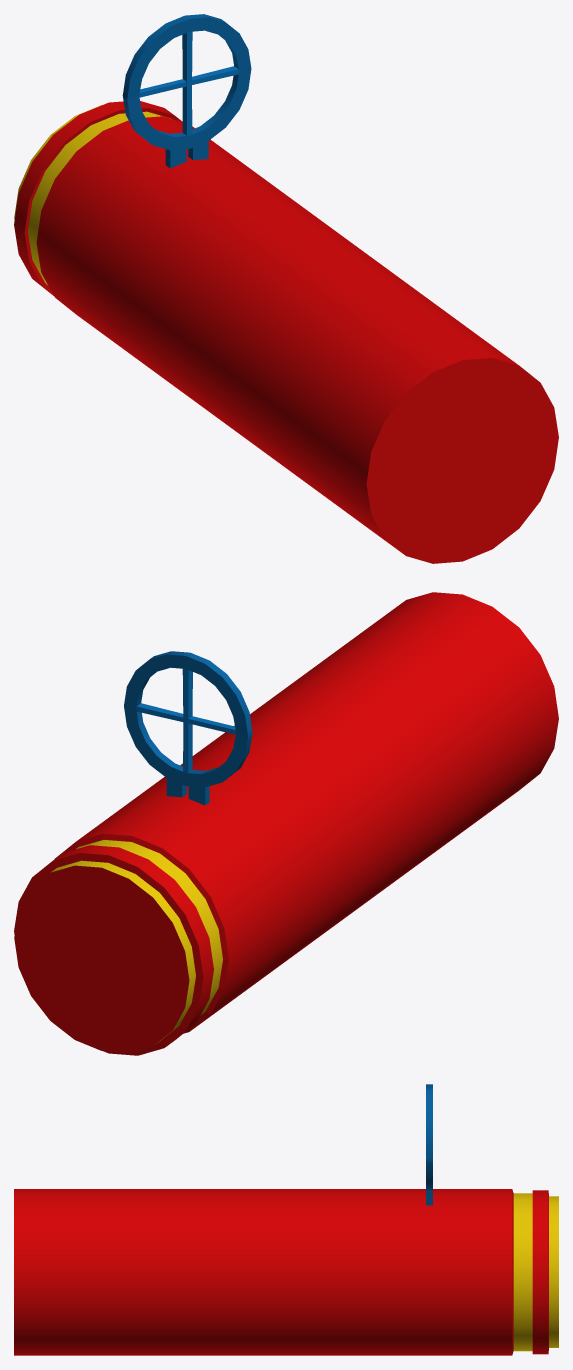
Rendered from gun.fbx.
3 views of the same model, one above another, from view 1: azimuth 30°, elevation 25°; view 2: azimuth 150°, elevation 25°; view 3: azimuth 270°, elevation 25° (orthographic). The views are drawn at different scales.
Visible parts, largest first — view 1: pCylinder6, pPipe2; view 2: pCylinder6, pPipe2; view 3: pCylinder6, pPipe2.
Part boxes in pixels (x1,y1,x2,y2): pCylinder6: (14, 101, 558, 563); pPipe2: (122, 14, 251, 168); pCylinder6: (14, 592, 558, 1055); pPipe2: (124, 651, 252, 805); pCylinder6: (14, 1189, 558, 1355); pPipe2: (426, 1084, 432, 1205).
Bounding box in the file's own units: 1.25 × 2.12 × 4.04.
